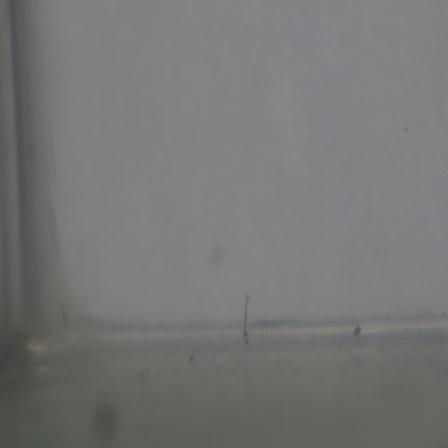Jentik-Nyamuk: (237, 286, 256, 347)
